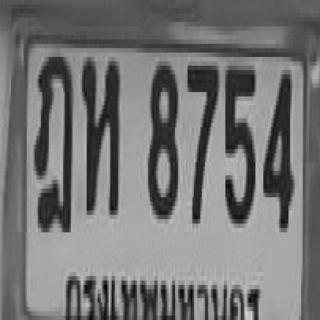A14: (33, 53, 72, 228)
A41: (80, 57, 118, 210)
N04: (262, 66, 292, 228)
N05: (224, 61, 254, 224)
N07: (186, 61, 218, 219)
N08: (146, 61, 176, 215)
